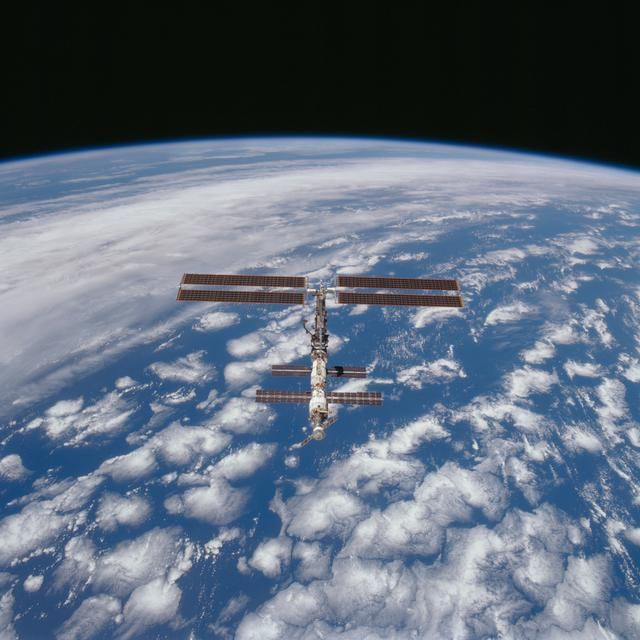satellite: (176, 244, 479, 449)
